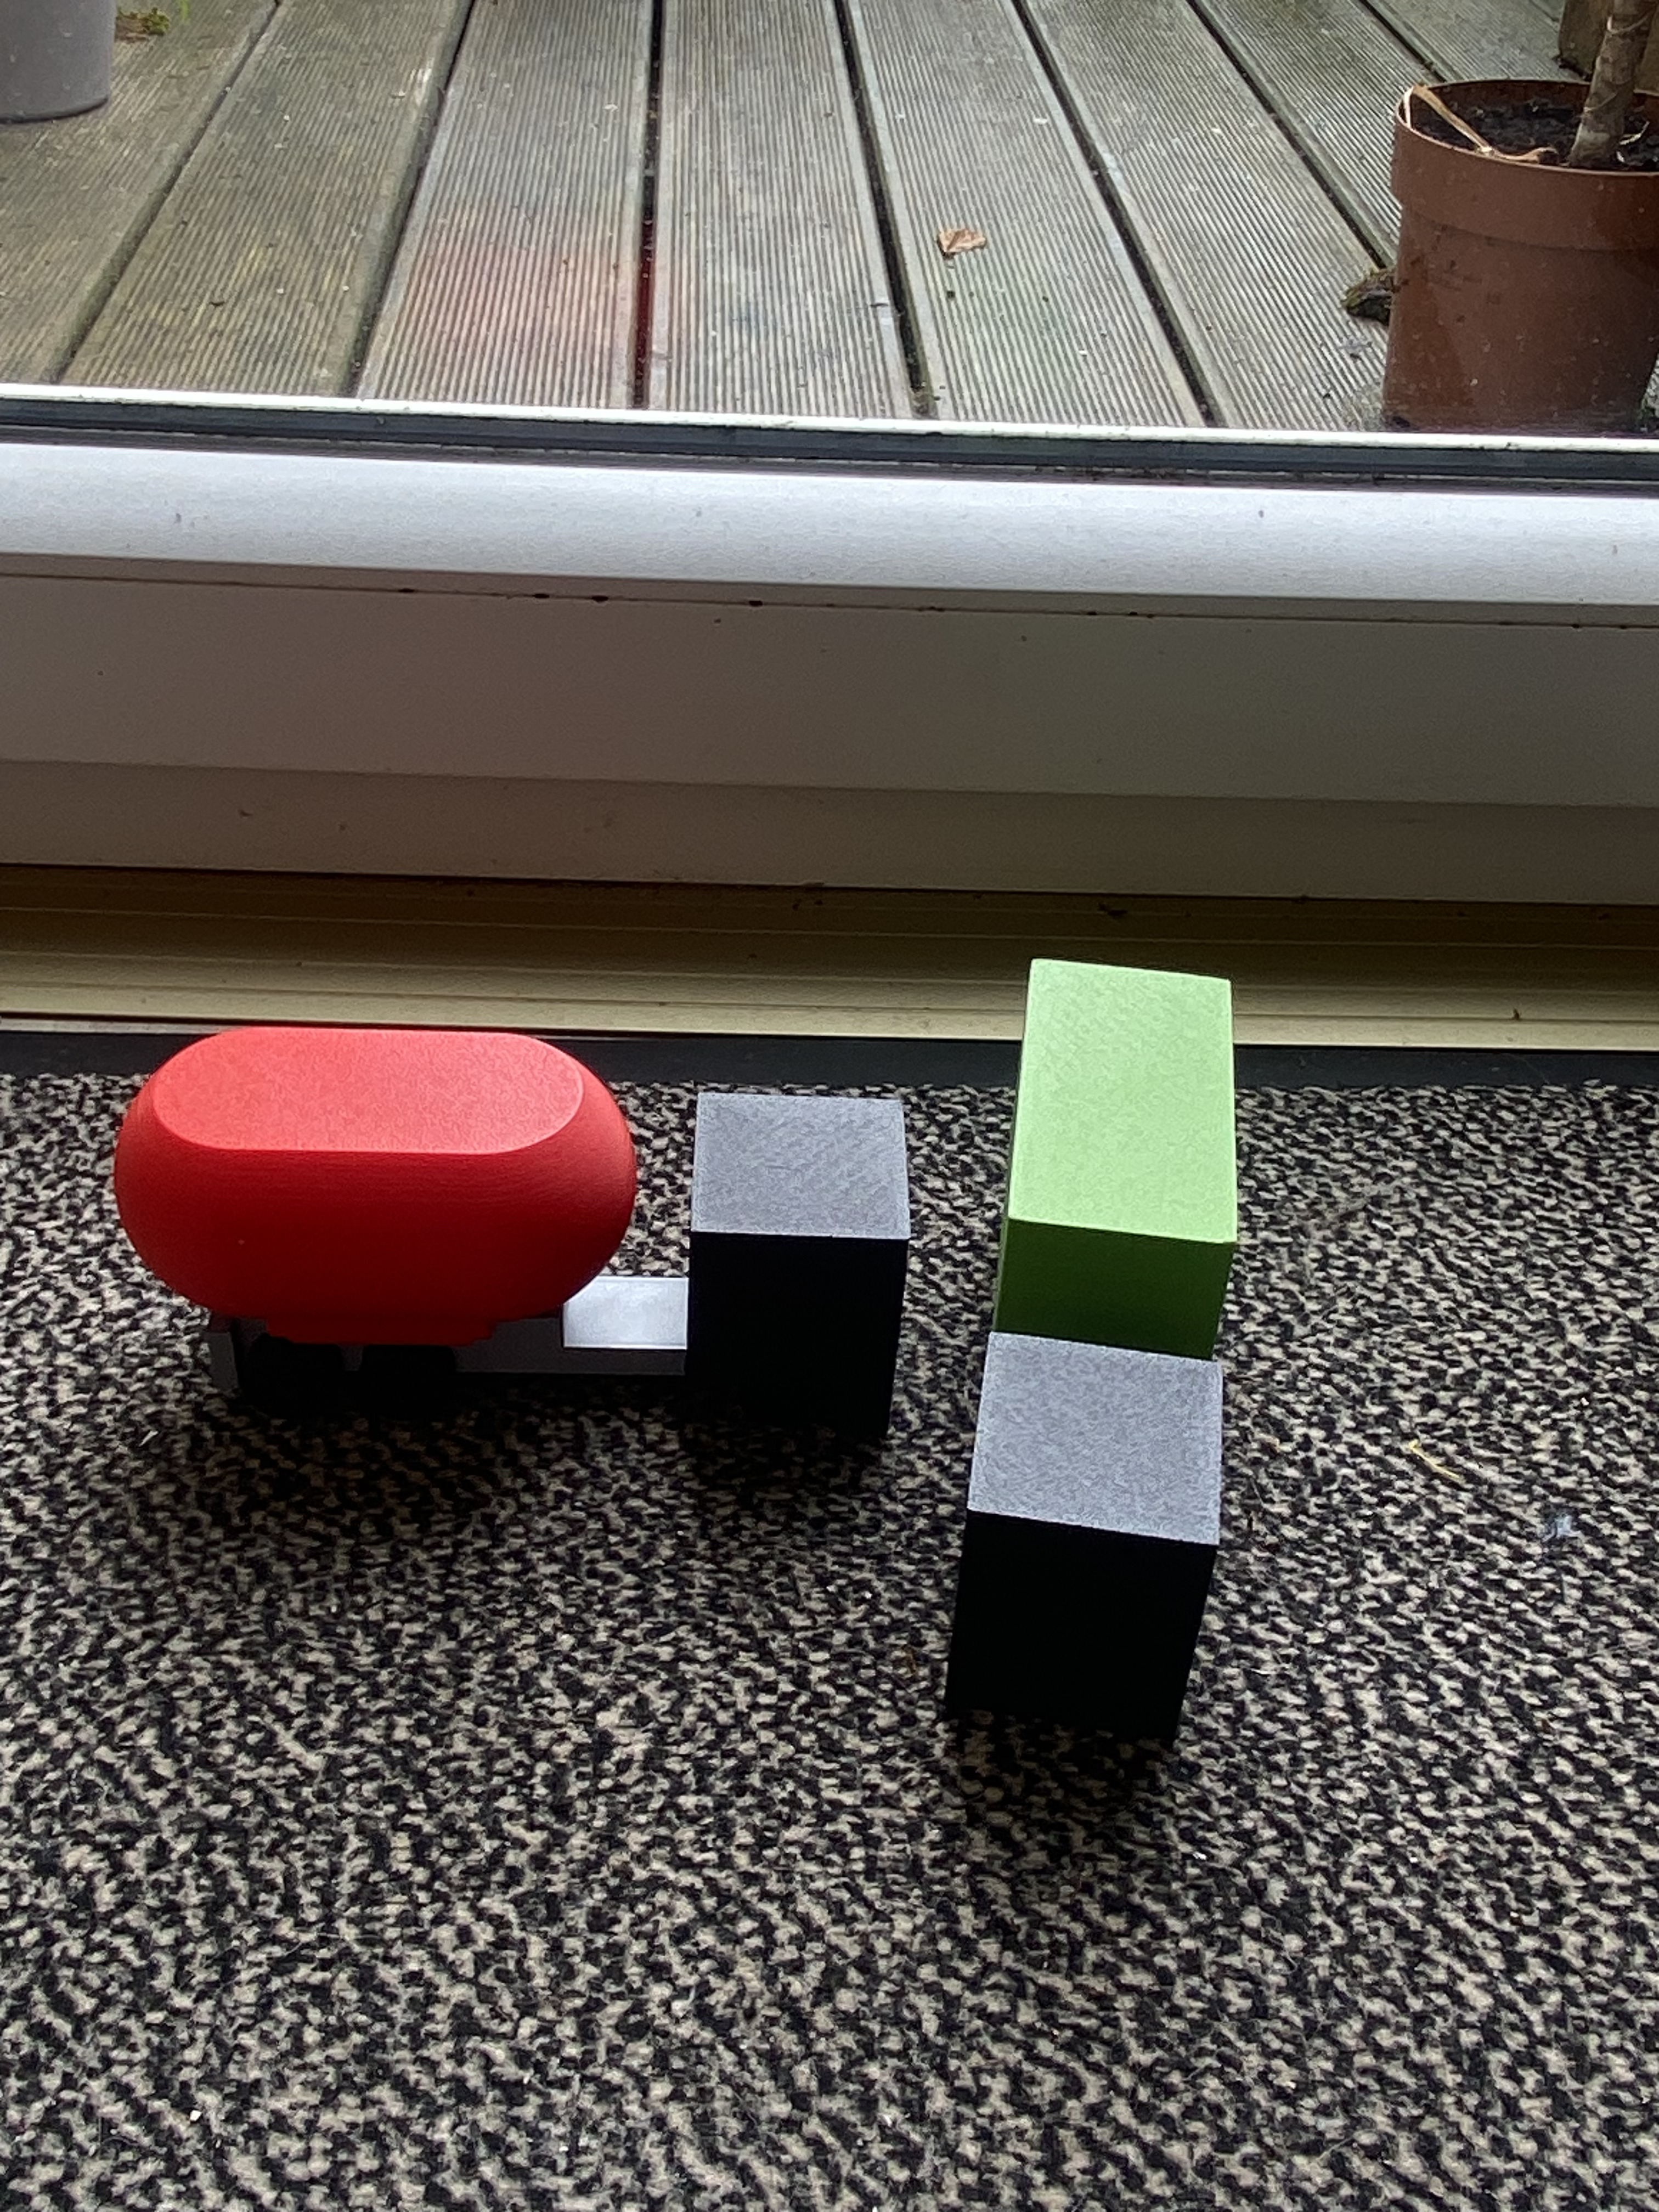green_truck: (976, 953, 1248, 1689)
red_truck: (396, 881, 770, 1552)
